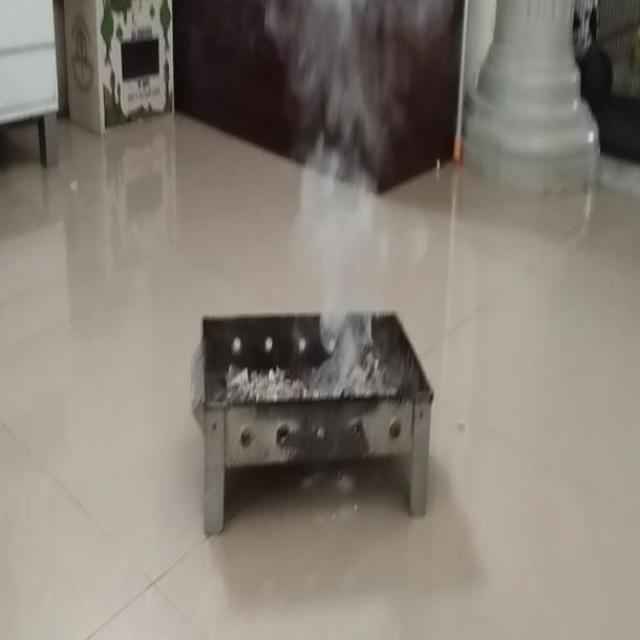fire: (243, 0, 457, 145), (290, 147, 387, 324)
